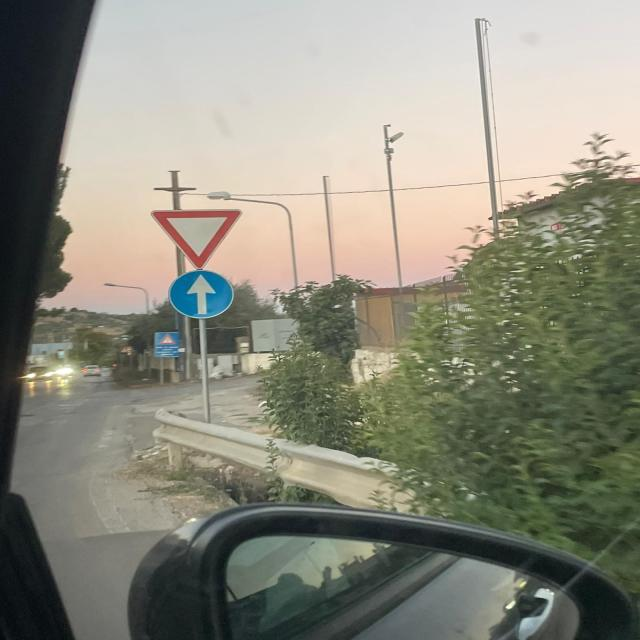prio_give_way: (149, 210, 242, 270)
